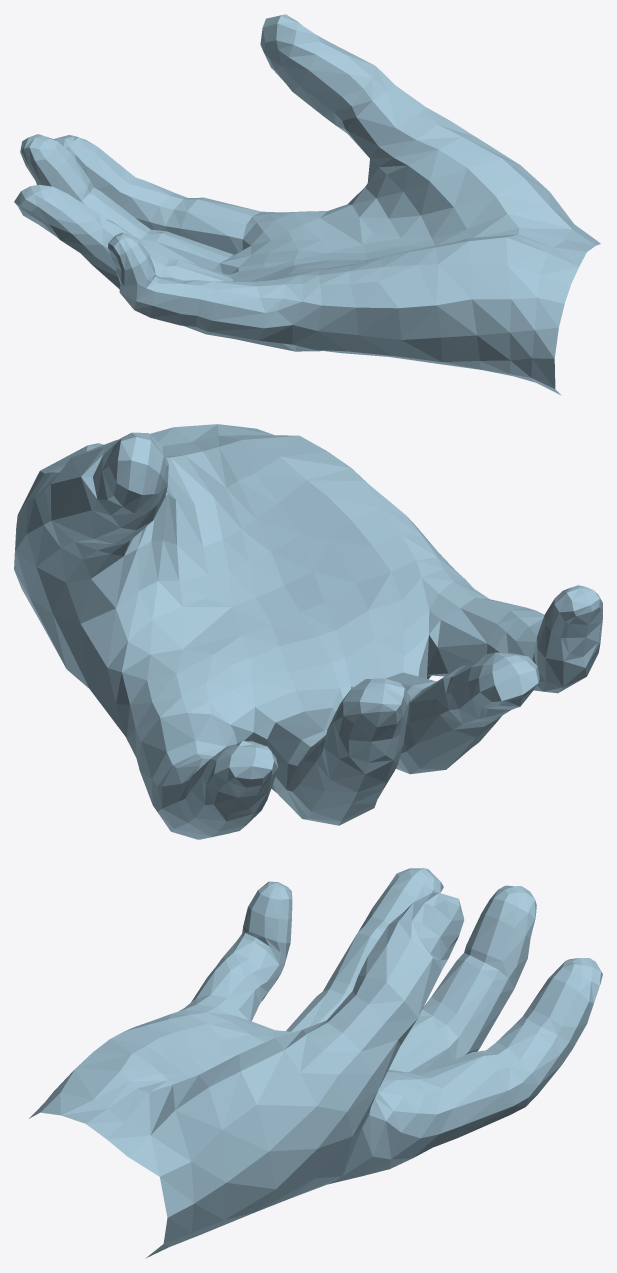
The model's file is frame_038.glb.
3 views of the same model, one above another, from view 1: azimuth 30°, elevation 25°; view 2: azimuth 150°, elevation 25°; view 3: azimuth 270°, elevation 25° (orthographic). The views are drawn at different scales.
Visible parts, largest first — view 1: world; view 2: world; view 3: world.
Boxes of the visible parts, x1,y1,x2,y2 form: world: [14, 14, 600, 395]; world: [14, 424, 602, 839]; world: [29, 868, 602, 1258].
Size of the model in its own units: 0.1476 by 0.0837 by 0.1517.
